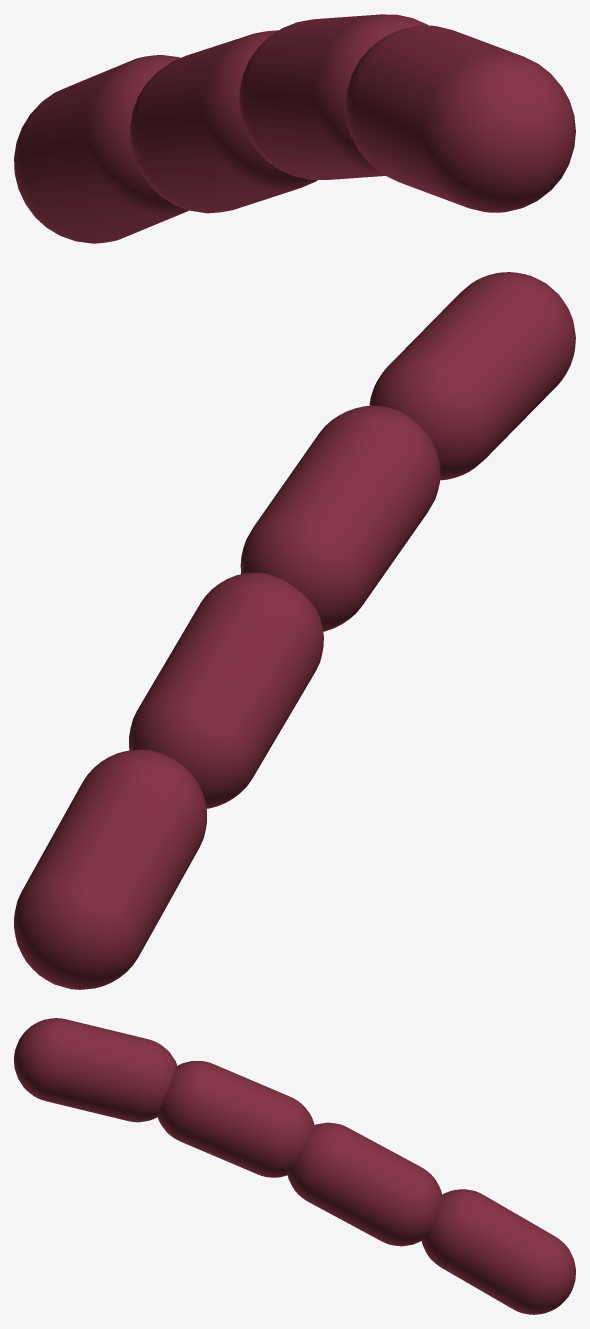
Rendered from streptobacilli.glb.
3 views of the same model, one above another, from view 1: azimuth 30°, elevation 25°; view 2: azimuth 150°, elevation 25°; view 3: azimuth 270°, elevation 25° (orthographic). The views are drawn at different scales.
Visible parts, largest first — view 1: Sphere.003, Sphere, Sphere.001, Sphere.002; view 2: Sphere, Sphere.001, Sphere.002, Sphere.003; view 3: Sphere.003, Sphere, Sphere.002, Sphere.001.
Part boxes in pixels (<box>): Sphere.003: <box>345,25,575,212</box>; Sphere: <box>14,55,188,243</box>; Sphere.001: <box>130,30,317,213</box>; Sphere.002: <box>239,14,428,179</box>; Sphere: <box>14,749,206,989</box>; Sphere.001: <box>129,572,323,808</box>; Sphere.002: <box>240,405,440,631</box>; Sphere.003: <box>369,272,575,480</box>; Sphere.003: <box>14,1018,177,1122</box>; Sphere: <box>421,1189,575,1314</box>; Sphere.002: <box>157,1061,314,1177</box>; Sphere.001: <box>287,1122,442,1246</box>.
Bounding box in the file's own units: 0.6292 × 1.62 × 3.
